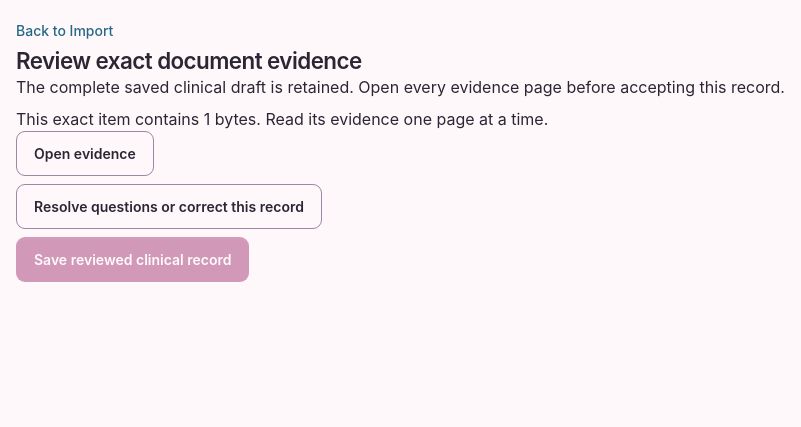
Scenario: refuses a stale reference at final approval without posting a clinical mutation
Click the button "Open evidence" at (85, 153), box [16,131,154,176]
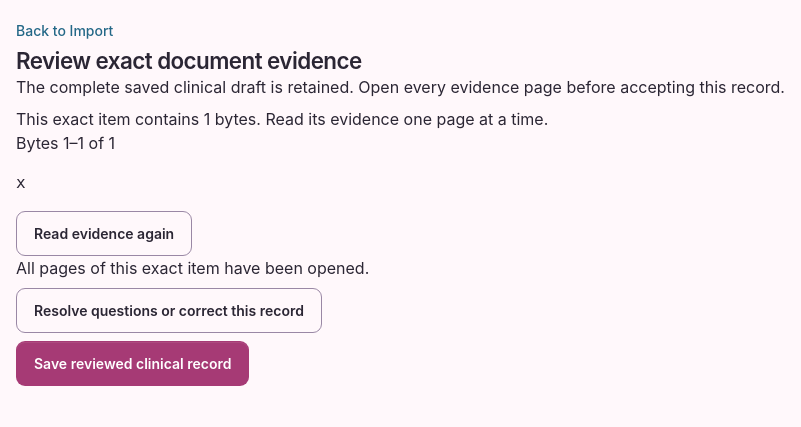
Expected: the text "All pages of this exact item have been opened." is shown, [16,258,369,278]
Click the button "Save reviewed clinical record" at (133, 363), box [16,341,249,386]
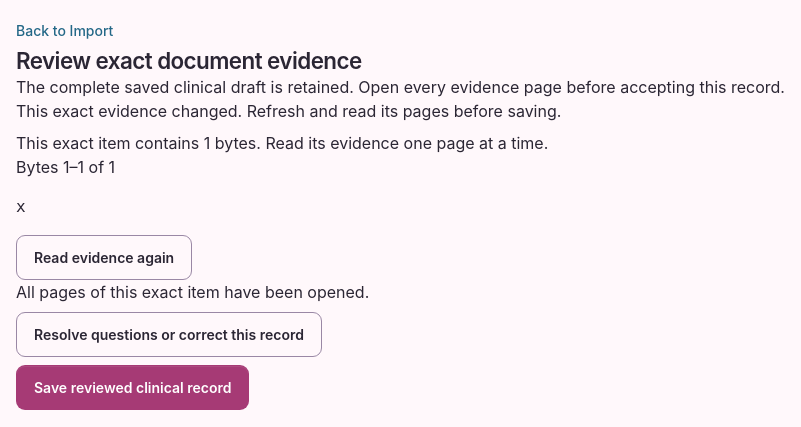
Expected: the message "This exact evidence changed. Refresh and read its pages before saving." is shown, [16,101,561,121]
